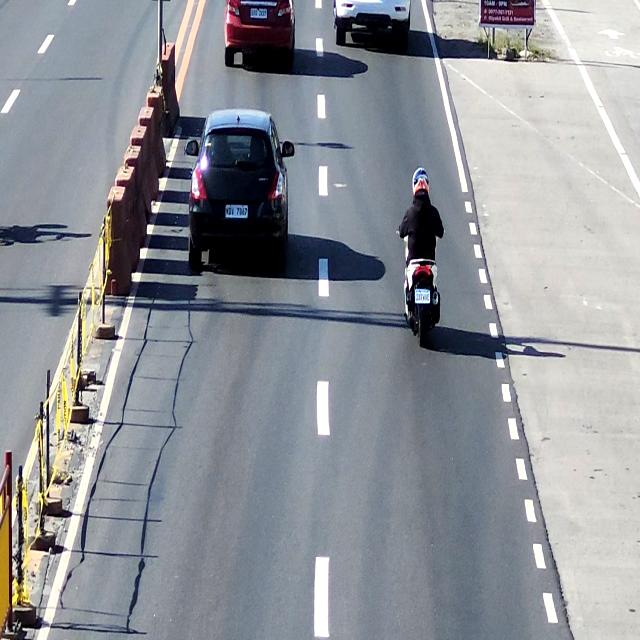Car: (188, 107, 296, 275), (222, 0, 295, 68), (332, 0, 412, 45)
License-Plate: (223, 203, 250, 224), (414, 287, 433, 306), (250, 6, 270, 22)
Motorcycle: (398, 204, 452, 349)
